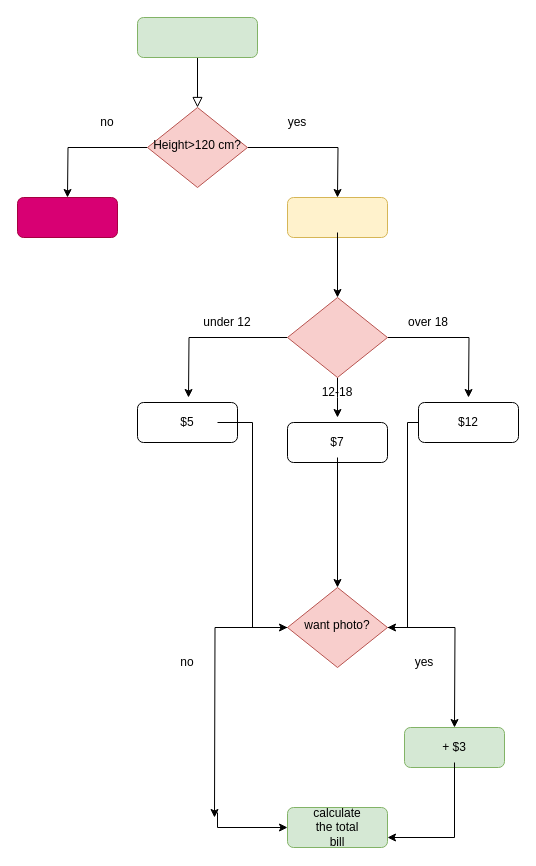
The diagram is 536 pixels wide and 866 high, and some of its shapes have lost their labels. The box of each missing label's shape, as (x1, y1, x2, y2) in pixels:
age: (286, 296, 388, 378)
can ride: (286, 196, 388, 238)
can't ride: (16, 196, 118, 238)
start: (136, 16, 258, 58)
